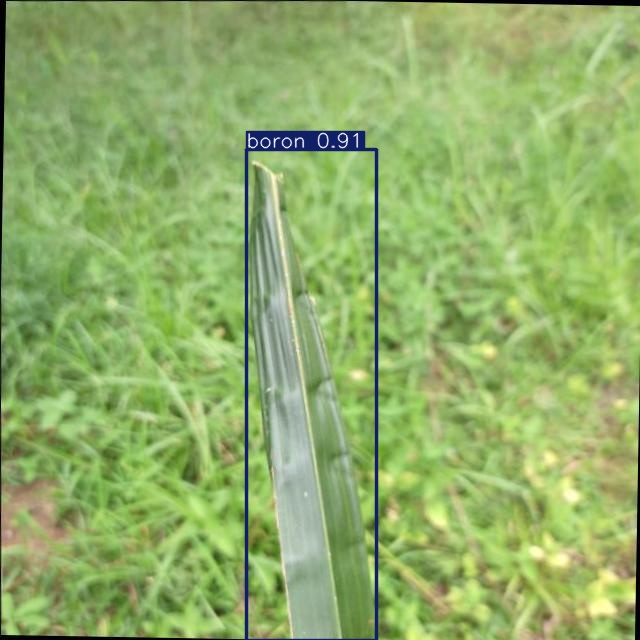nitrogen: (246, 149, 376, 640)
